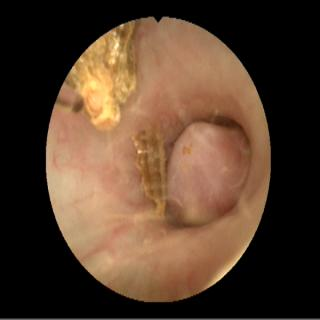stone: (66, 22, 137, 130), (132, 129, 165, 217)
tissue: (50, 20, 266, 297)
